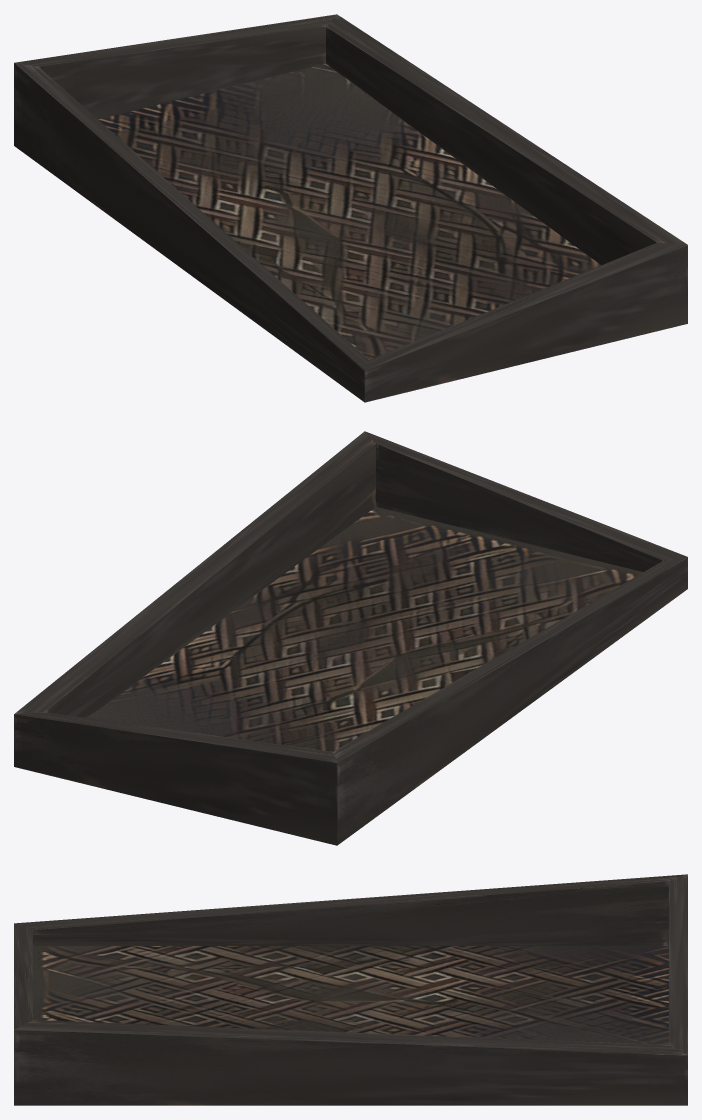
The model's file is desertset1burn.gltf.
The picture shows the model from 3 angles, top to bottom: view 1: azimuth 30°, elevation 25°; view 2: azimuth 150°, elevation 25°; view 3: azimuth 270°, elevation 25°; orthographic projection. The views are drawn at different scales.
Parts seen in each view (by area): view 1: desertset1burn_atomic0; view 2: desertset1burn_atomic0; view 3: desertset1burn_atomic0.
Boxes of the visible parts, x1=… form: desertset1burn_atomic0: x1=14, y1=14, x2=687, y2=402; desertset1burn_atomic0: x1=14, y1=431, x2=687, y2=845; desertset1burn_atomic0: x1=14, y1=874, x2=687, y2=1105.
Bounding box in the file's own units: 25.33 × 6.22 × 47.63.
2 materials, 2 textured.
